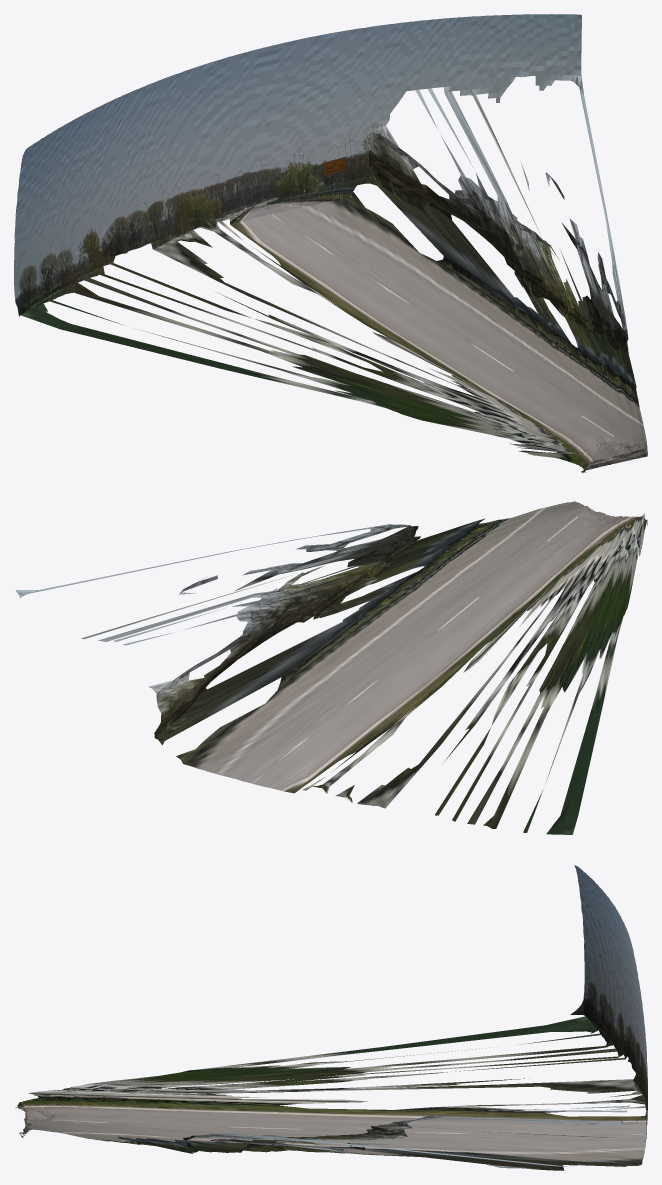
The picture shows the model from 3 angles, top to bottom: view 1: azimuth 30°, elevation 25°; view 2: azimuth 150°, elevation 25°; view 3: azimuth 270°, elevation 25°; orthographic projection. The views are drawn at different scales.
Visible parts, largest first — view 1: defaultobject; view 2: defaultobject; view 3: defaultobject.
Boxes of the visible parts, x1=… form: defaultobject: x1=14, y1=14, x2=647, y2=472; defaultobject: x1=15, y1=501, x2=647, y2=834; defaultobject: x1=15, y1=865, x2=647, y2=1170.
Size of the model in its own units: 41.05 by 12.93 by 44.81.
1 material, 1 textured.
